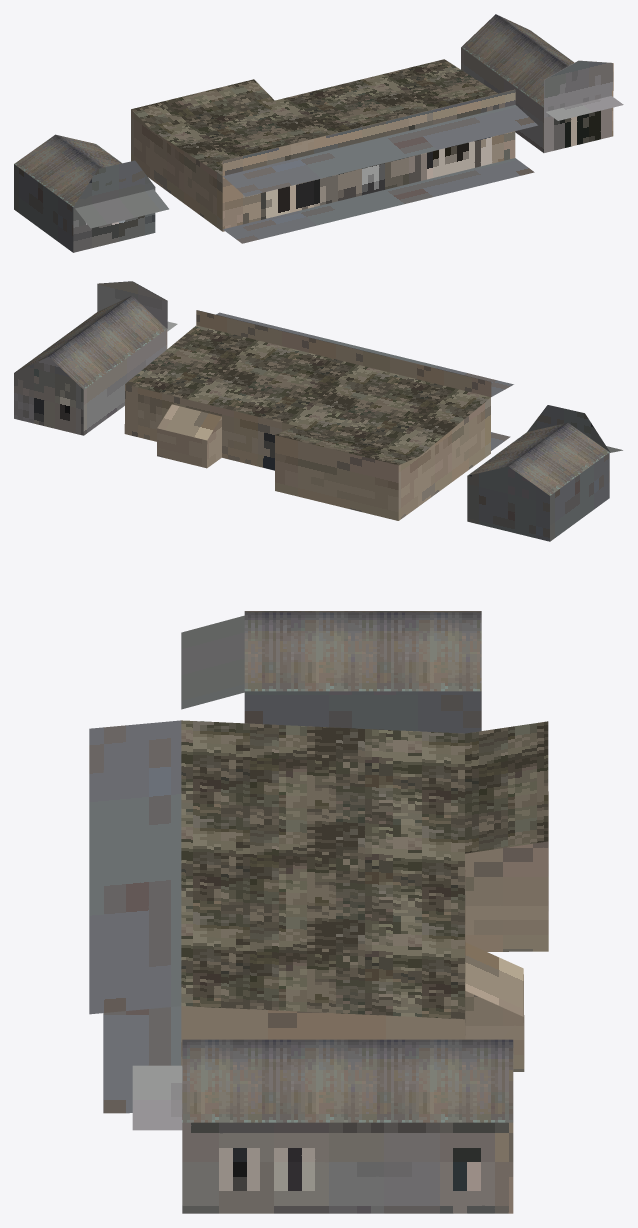
File: lod_westrn2_.obj
The picture shows the model from 3 angles, top to bottom: view 1: azimuth 30°, elevation 25°; view 2: azimuth 150°, elevation 25°; view 3: azimuth 270°, elevation 25°; orthographic projection. The views are drawn at different scales.
Parts seen in each view (by area): view 1: lod_westrn2_; view 2: lod_westrn2_; view 3: lod_westrn2_.
Part boxes in pixels (x1,y1,x2,y2): lod_westrn2_: (14,14,623,252); lod_westrn2_: (14,281,622,541); lod_westrn2_: (89,611,548,1213).
Bounding box in the file's own units: 42.25 × 6.49 × 16.03.
Materials: 3 (3 with a texture image).
